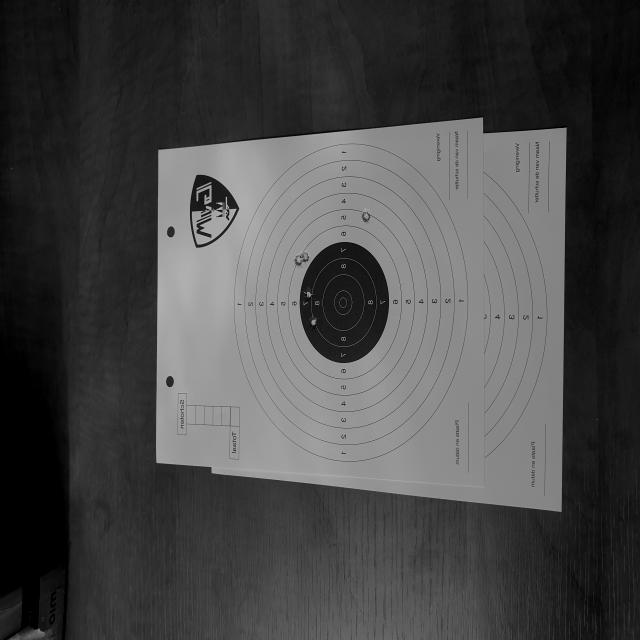5: (359, 207, 372, 225)
6: (294, 253, 302, 268), (302, 250, 310, 264)
8: (303, 287, 314, 302), (309, 317, 318, 330)
Target: (234, 143, 466, 461)
black_contour: (299, 242, 389, 364)
